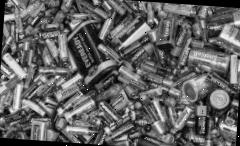electronic: (36, 63, 74, 82)
